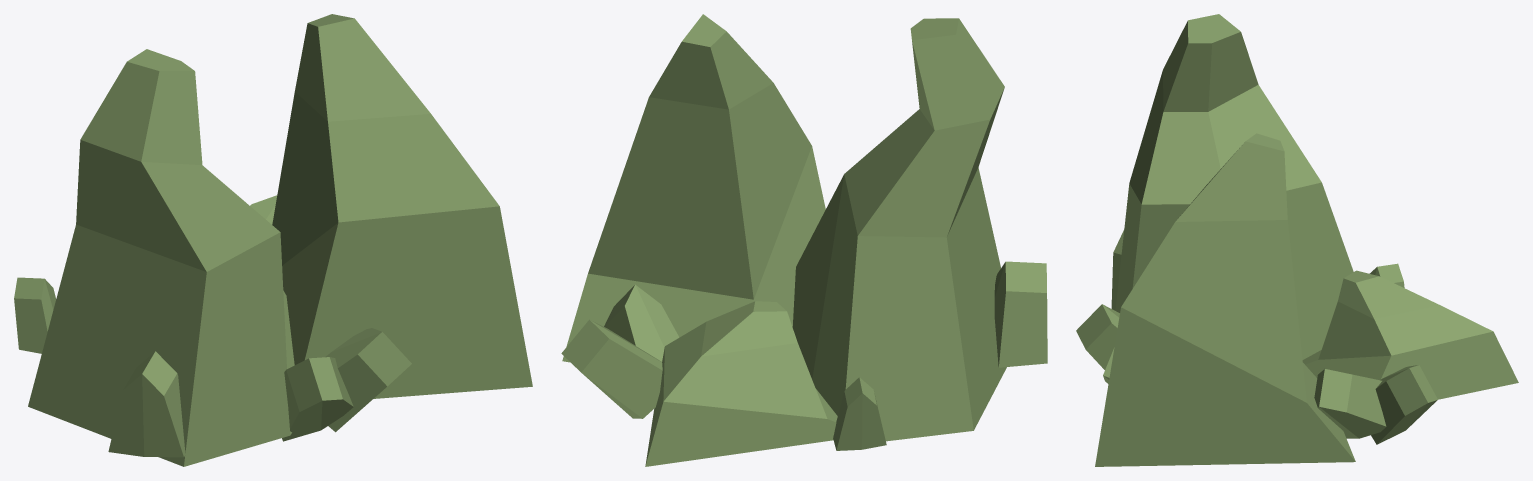
The model's file is brigesRock_Type3_02_mesh_001.fbx.
3 views of the same model, side by side, from view 1: azimuth 30°, elevation 25°; view 2: azimuth 150°, elevation 25°; view 3: azimuth 270°, elevation 25° (orthographic). The views are drawn at different scales.
Parts seen in each view (by area): view 1: Rock Type3 02 mesh.001; view 2: Rock Type3 02 mesh.001; view 3: Rock Type3 02 mesh.001.
Part boxes in pixels (box(x1,y1,x2,y2)): Rock Type3 02 mesh.001: box(14, 14, 532, 466); Rock Type3 02 mesh.001: box(561, 14, 1047, 466); Rock Type3 02 mesh.001: box(1076, 14, 1518, 466).
Bounding box in the file's own units: 213 × 195 × 238.
